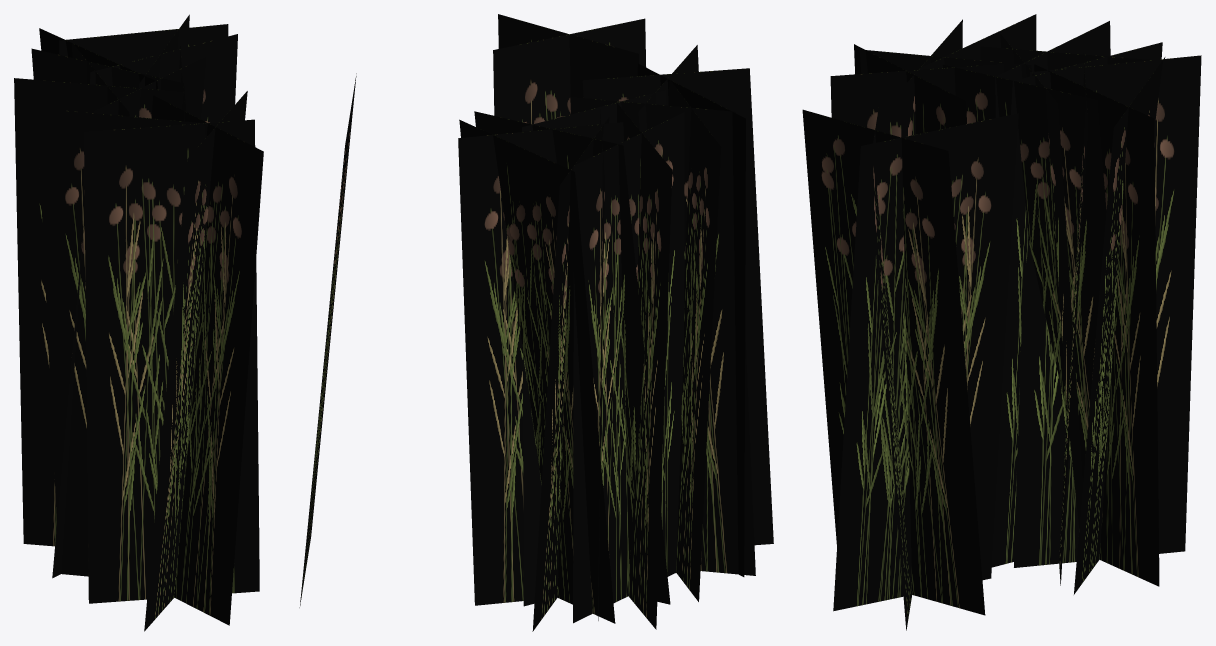
Rendered from tpl_reed_drains.glb.
The picture shows the model from 3 angles, left to right: view 1: azimuth 30°, elevation 25°; view 2: azimuth 150°, elevation 25°; view 3: azimuth 270°, elevation 25°; orthographic projection. The views are drawn at different scales.
Visible parts, largest first — view 1: tpl_reed_drains; view 2: tpl_reed_drains; view 3: tpl_reed_drains.
Part boxes in pixels (box(x1,y1,x2,y2)): tpl_reed_drains: box(14, 14, 356, 631); tpl_reed_drains: box(458, 14, 773, 631); tpl_reed_drains: box(802, 14, 1201, 630).
Bounding box in the file's own units: 1.86 × 2.7 × 2.04.
1 material, 1 textured.
